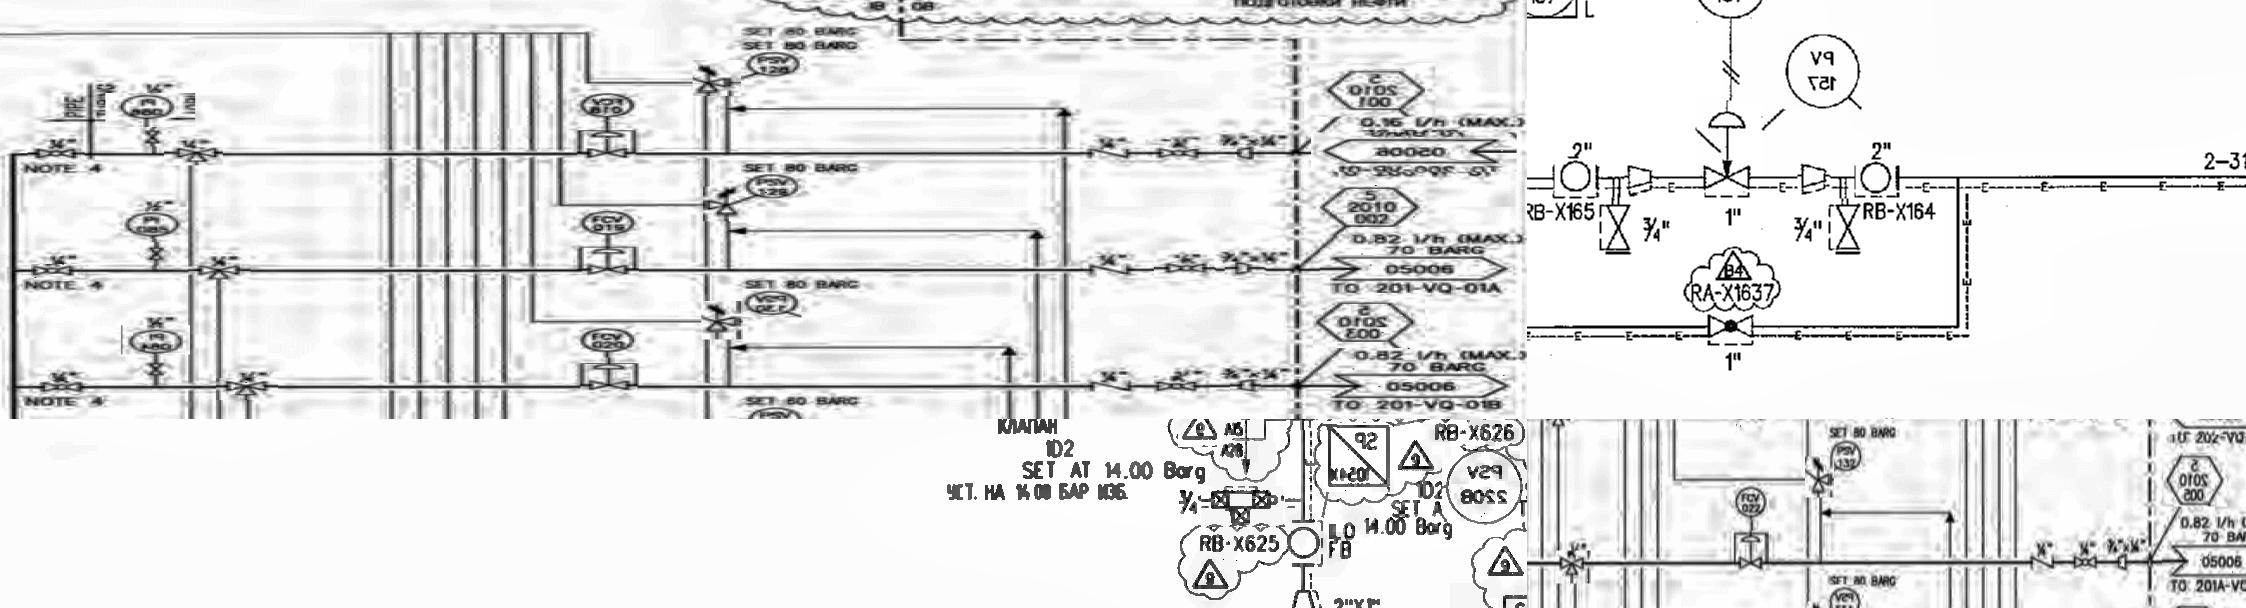2 WAY VALVE: (1202, 486, 1286, 528)
3 WAY GENERAL VALVE: (189, 261, 251, 284), (218, 379, 279, 402), (1557, 551, 1591, 584), (165, 148, 223, 166), (1544, 419, 1574, 430)
ANGLE RELIEF VALVE: (695, 60, 745, 96), (703, 301, 746, 340), (705, 188, 748, 222), (1805, 456, 1835, 498)
CONCENTRIC REDUCER: (1624, 156, 1654, 195), (1798, 162, 1831, 196), (1288, 588, 1321, 608), (1236, 145, 1265, 162), (2116, 551, 2131, 572), (2111, 419, 2131, 427)
CONNECTOR: (1226, 262, 1268, 280), (1232, 374, 1262, 397)
DCS ACCESSIBLE: (106, 93, 195, 128), (119, 208, 185, 239), (120, 326, 191, 354), (1527, 0, 1584, 29)
DIAPHRAGM ACTUATED VALVE: (1696, 100, 1762, 198), (582, 247, 639, 278), (577, 132, 636, 162), (580, 364, 637, 394), (1735, 531, 1768, 575), (1736, 419, 1769, 427)
FIELD INSTRUMENT: (1442, 446, 1527, 522), (1783, 30, 1862, 109), (576, 323, 645, 357), (1282, 516, 1324, 566), (1689, 0, 1770, 24), (570, 209, 639, 238), (576, 93, 643, 122), (1855, 158, 1899, 199), (745, 290, 805, 318), (1554, 156, 1597, 195), (745, 175, 805, 201), (745, 52, 799, 77), (1732, 485, 1770, 521), (1828, 437, 1865, 472), (1828, 585, 1866, 608)
GATE VALVE: (1596, 198, 1634, 261), (1826, 199, 1864, 258), (140, 242, 170, 265), (140, 360, 170, 381), (133, 129, 168, 146)
NO ACCESS INDICATOR: (1311, 63, 1438, 116), (1318, 184, 1434, 237), (1312, 298, 1425, 350), (2161, 453, 2227, 508)
PIPE CONNECTION FLAG: (1312, 133, 1520, 174), (1321, 248, 1523, 287), (1331, 367, 1520, 406), (2161, 536, 2246, 582), (2167, 419, 2246, 434)
PLUG VALVE: (1144, 139, 1216, 162), (1156, 258, 1218, 282), (1155, 376, 1209, 394), (29, 148, 86, 165), (32, 264, 80, 280), (33, 381, 89, 394), (2073, 551, 2101, 575), (2066, 419, 2100, 427)
REVISION TRIANGLE: (1394, 437, 1444, 485), (1185, 556, 1238, 597), (1483, 539, 1527, 586), (1713, 250, 1759, 287), (1177, 419, 1218, 447)
SPECIAL PIPING ITEM: (1324, 422, 1394, 492)
